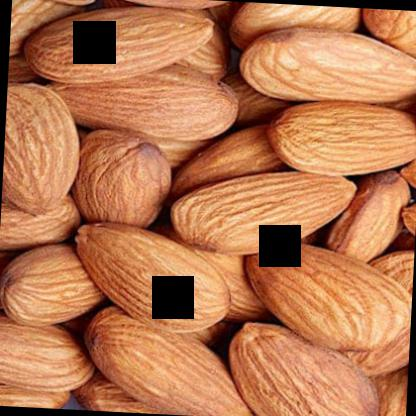almond: (75, 304, 259, 415), (237, 238, 413, 354), (162, 166, 355, 262), (68, 221, 233, 333), (19, 0, 212, 90), (43, 58, 237, 146), (220, 318, 381, 415), (236, 24, 415, 110), (261, 95, 415, 181), (0, 80, 82, 220), (70, 126, 172, 229), (0, 311, 94, 395), (70, 0, 255, 14)
